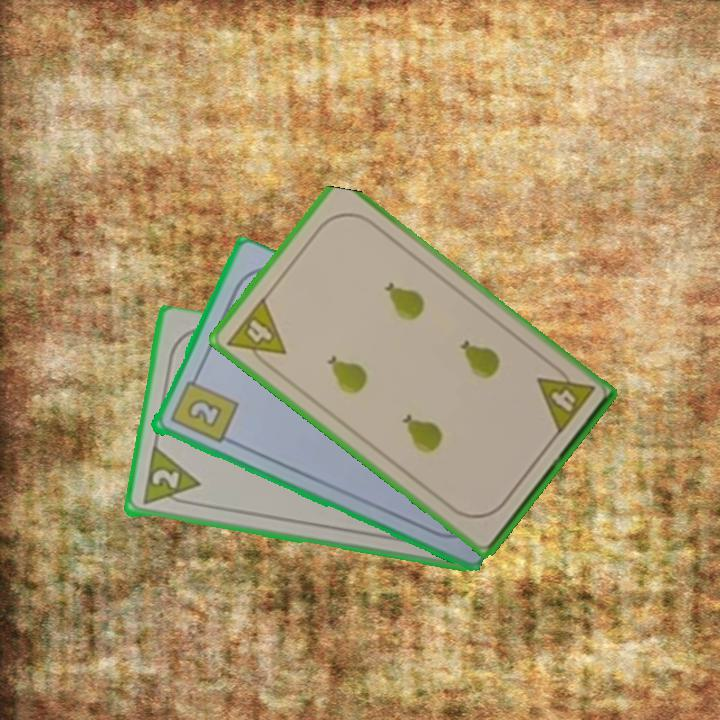2b: (166, 370, 240, 446)
2p: (138, 445, 202, 510)
4p: (223, 293, 289, 374), (533, 359, 597, 438)
